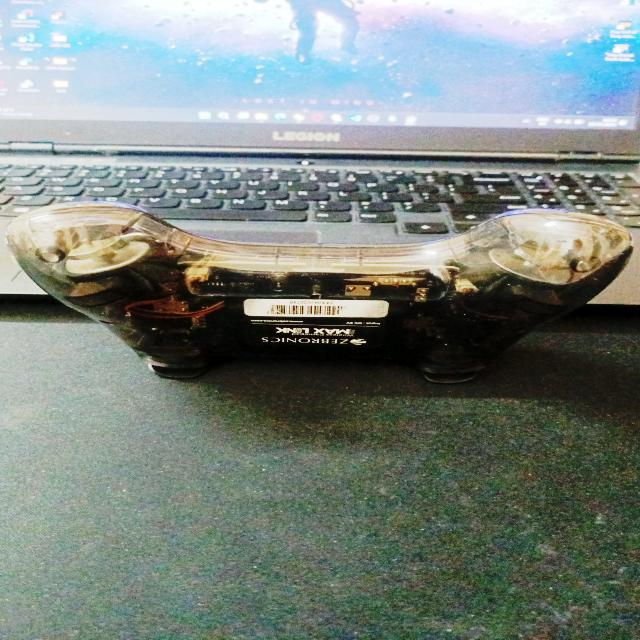gamepad: (5, 200, 633, 384)
